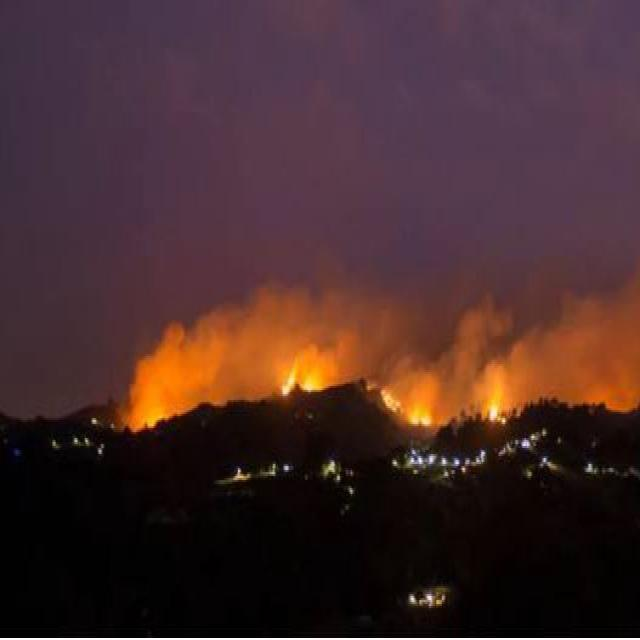Fire: (282, 352, 323, 396), (131, 395, 163, 435), (406, 397, 430, 430), (489, 396, 500, 428)
